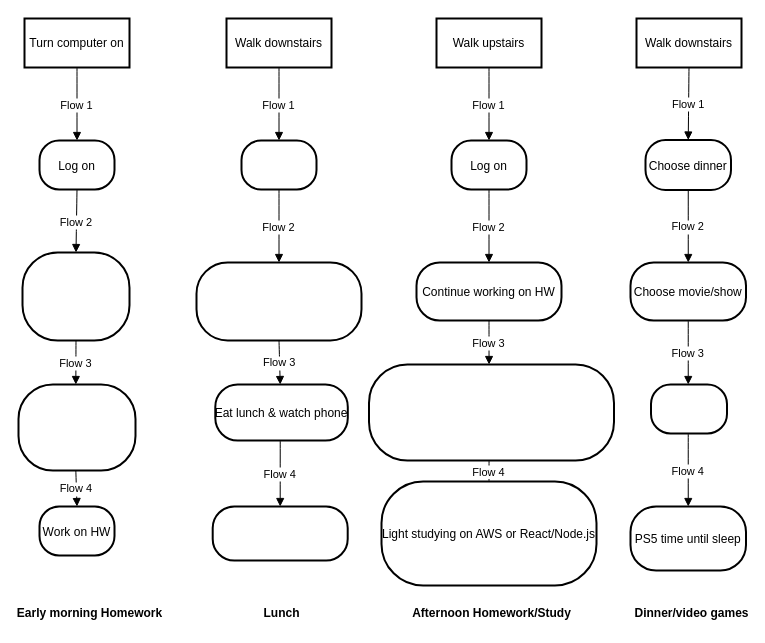
Some shapes in this 765 by 643 pixel diagram are drawn without their labels. The shapes that lost their labels are listed below. From the top down, each one's centre as x and y in pixels, then its label:
At (x=278, y=164): "Choose lunch".
At (x=75, y=296): "View assignments".
At (x=278, y=301): "Chose show/movie on phone".
At (x=76, y=427): "Notate assignments".
At (x=491, y=412): "Find good stopping point and notate progress".
At (x=689, y=408): "Eat dinner".
At (x=279, y=533): "Clean up after I'm done".
